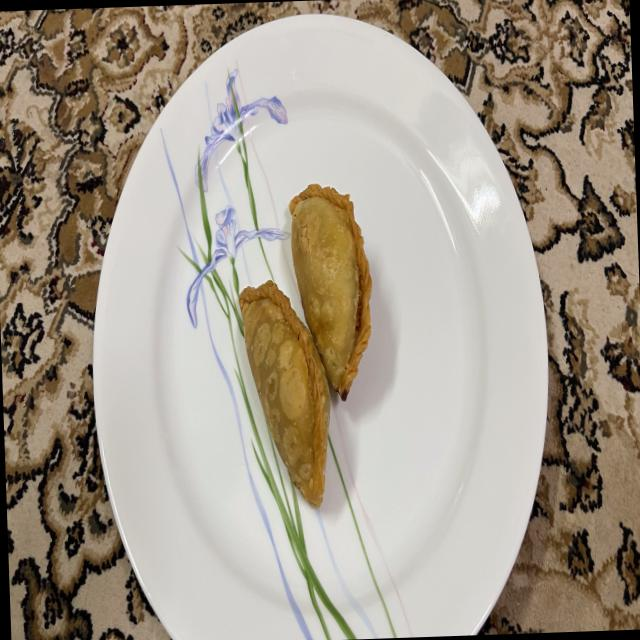karipap: (239, 282, 330, 507), (288, 184, 371, 399)
